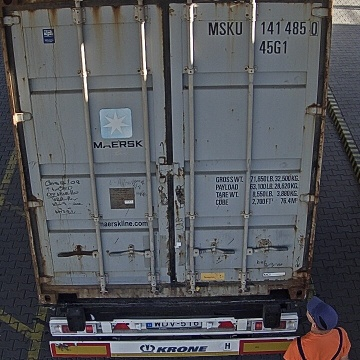serial_id: (208, 21, 319, 35)
